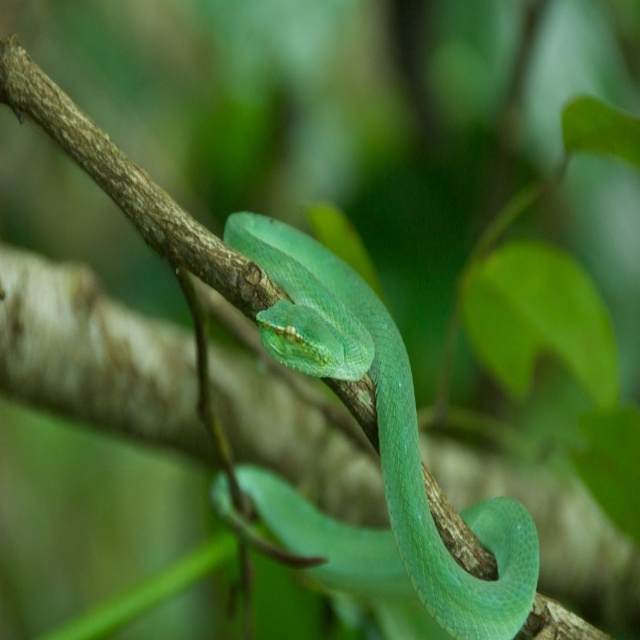Snake: (210, 211, 540, 640)
